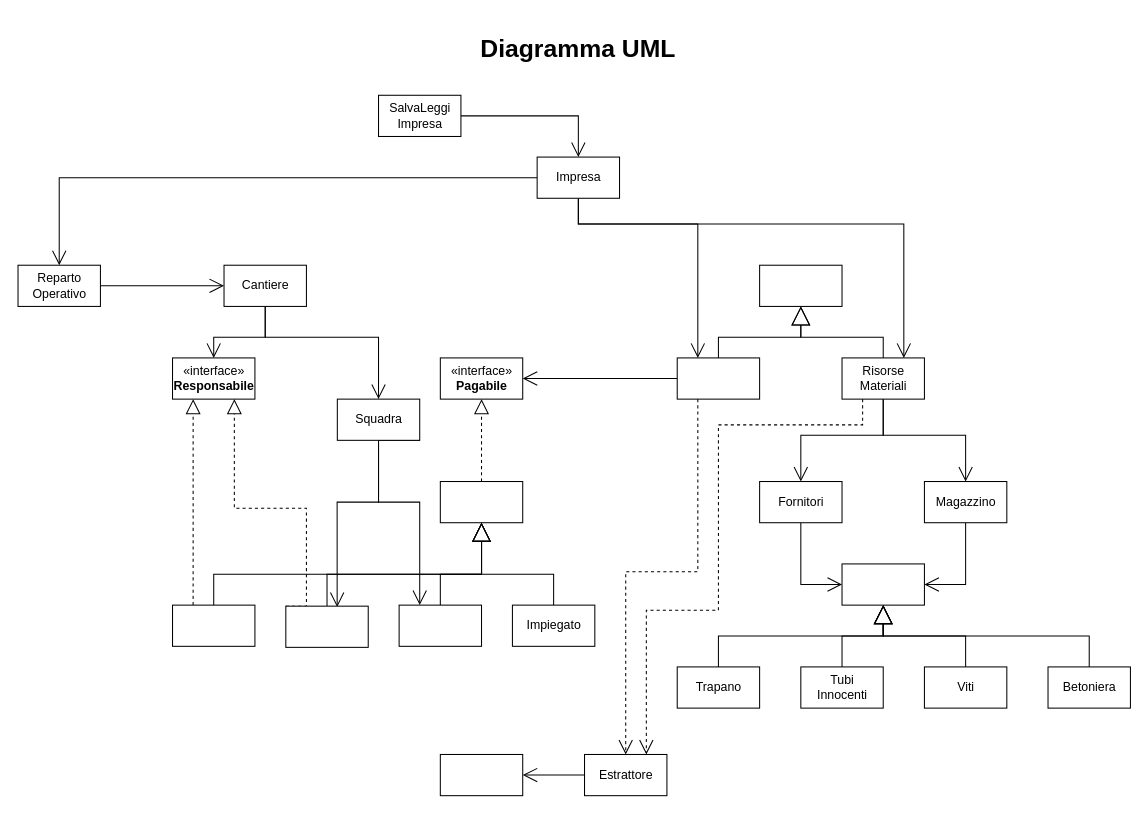
This 1148x814 diagram has some shape labels left out. The box of each missing label's shape, as (x1, y1, x2, y2) in pixels:
Dipendente: (439, 480, 523, 523)
Dirigente: (171, 604, 255, 646)
Materiale: (841, 563, 924, 605)
Operaio: (398, 604, 482, 646)
Quadro: (285, 605, 368, 647)
Reparto Amministrativo: (759, 264, 842, 306)
Risorse Umane: (676, 357, 760, 399)
«interface» Estraibile: (439, 753, 523, 796)
